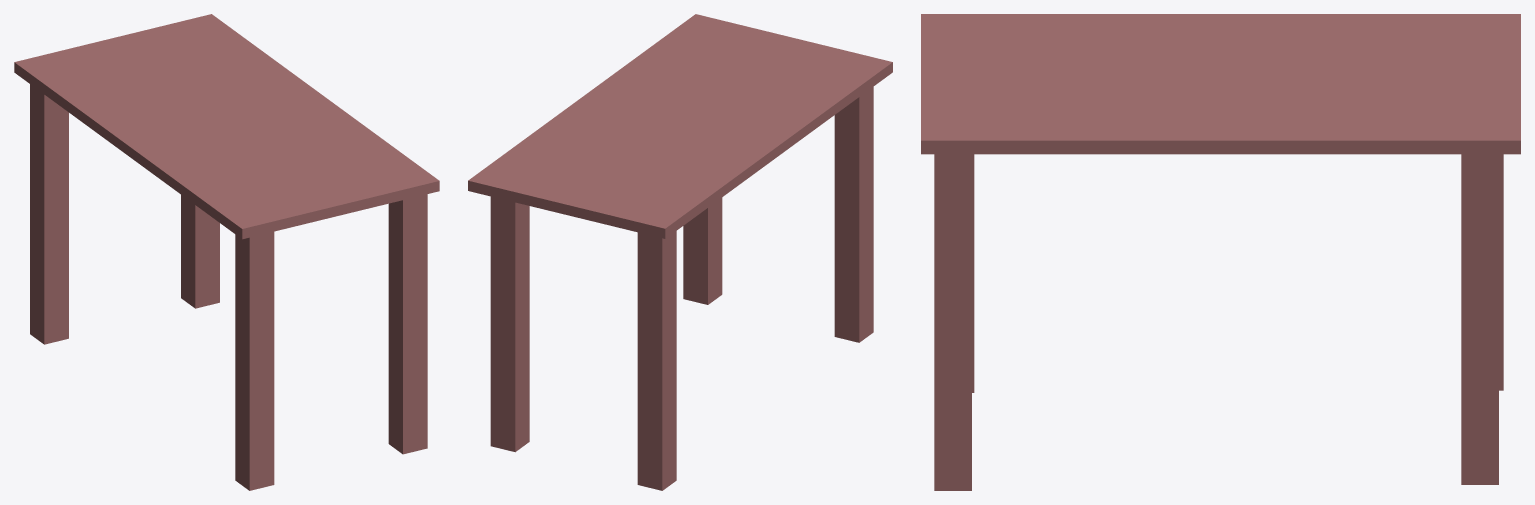
The model's file is mini table.fbx.
3 views of the same model, side by side, from view 1: azimuth 30°, elevation 25°; view 2: azimuth 150°, elevation 25°; view 3: azimuth 270°, elevation 25° (orthographic). The views are drawn at different scales.
Visible parts, largest first — view 1: Plane.006, Cube.009, Cube.007, Cube.006, Cube.008; view 2: Plane.006, Cube.006, Cube.008, Cube.007, Cube.009; view 3: Plane.006, Cube.009, Cube.008, Cube.006, Cube.007.
Part boxes in pixels (x1,y1,x2,y2): Plane.006: (14,14,439,239); Cube.009: (388,194,427,454); Cube.007: (235,231,274,490); Cube.006: (30,84,68,344); Cube.008: (181,195,219,308); Plane.006: (468,14,892,238); Cube.006: (637,231,676,490); Cube.008: (490,196,529,452); Cube.007: (834,87,873,342); Cube.009: (683,197,722,304); Plane.006: (921,14,1520,154); Cube.009: (934,154,971,490); Cube.008: (1461,154,1498,484); Cube.006: (1499,154,1503,390); Cube.007: (972,154,974,392).
Bounding box in the file's own units: 40 × 52.2 × 80.
